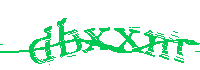b: (56, 17, 82, 58)
d: (29, 27, 54, 65)
m: (144, 28, 185, 65)
x: (113, 26, 142, 54), (82, 27, 112, 54)
